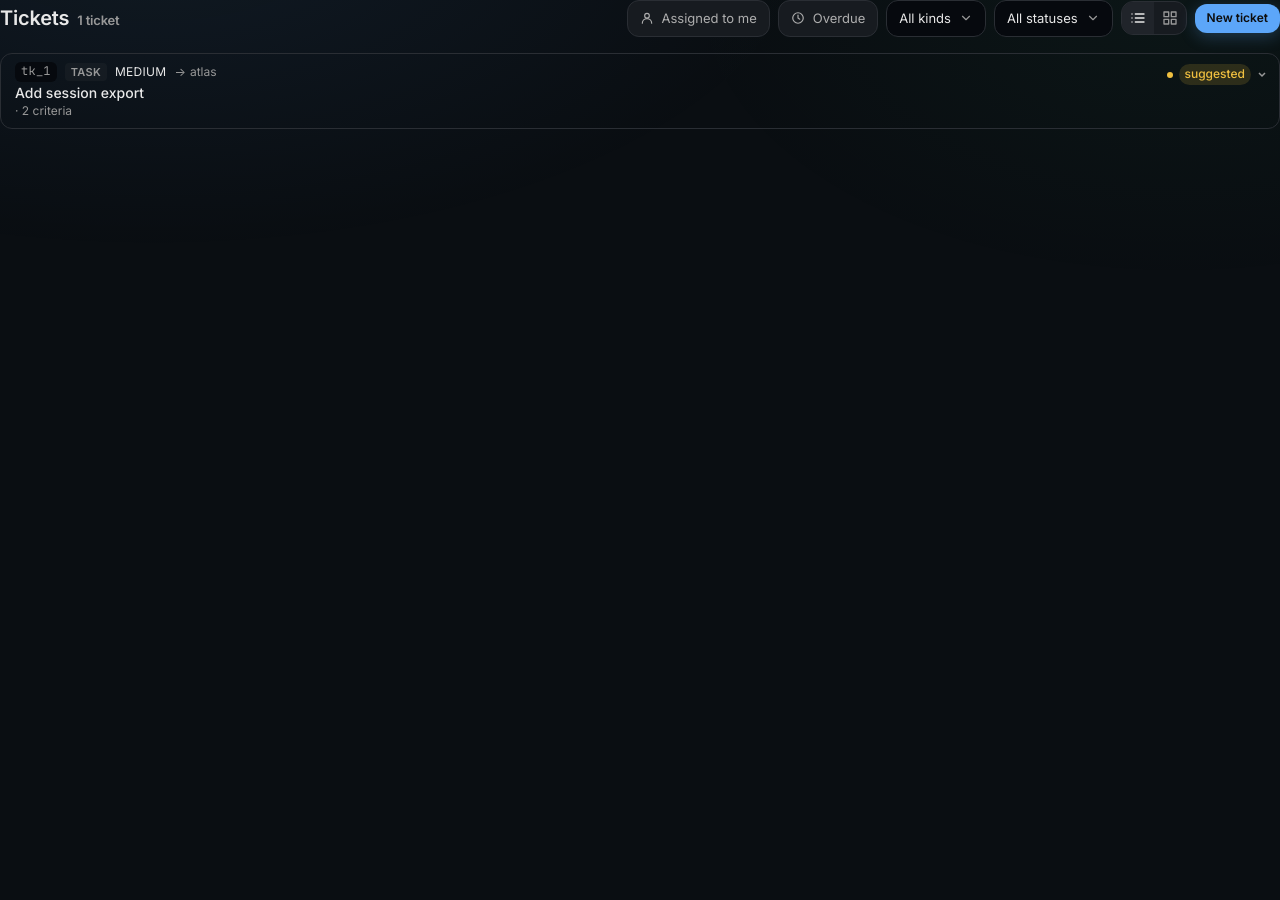
Scenario: TicketsTab › exposes a kind selector and conditional Parent Issue picker in the new ticket modal
Click the button "New ticket": [1237, 18] box top-left (1195, 4), bottom-right (1279, 33)
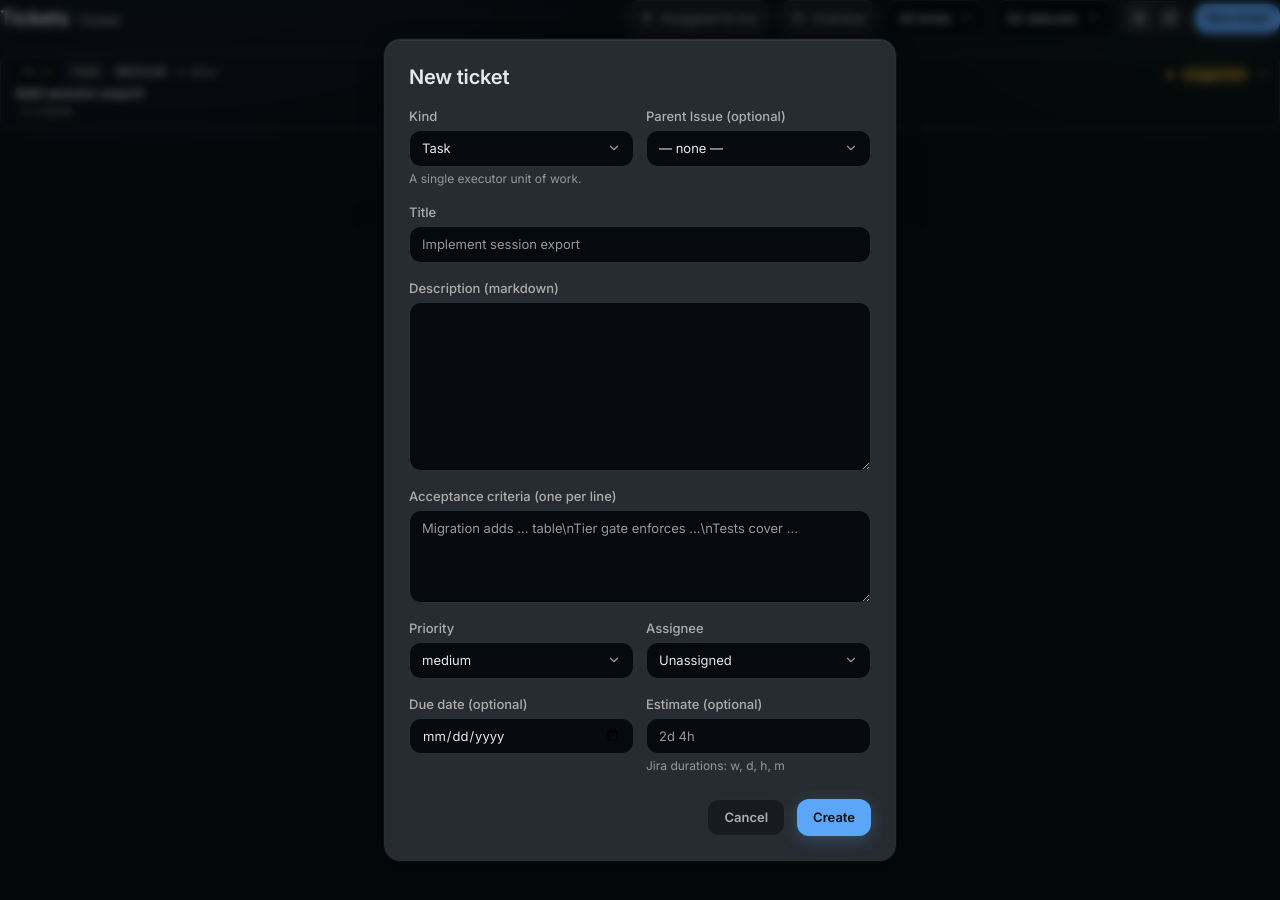
Expected: the button named "Kind" reads "Task"
Expected: the button named "Parent Issue" is shown, top-left (646, 130), bottom-right (871, 167)
// Switch to Issue
Click the button named "Kind": [522, 148] box top-left (409, 130), bottom-right (634, 167)
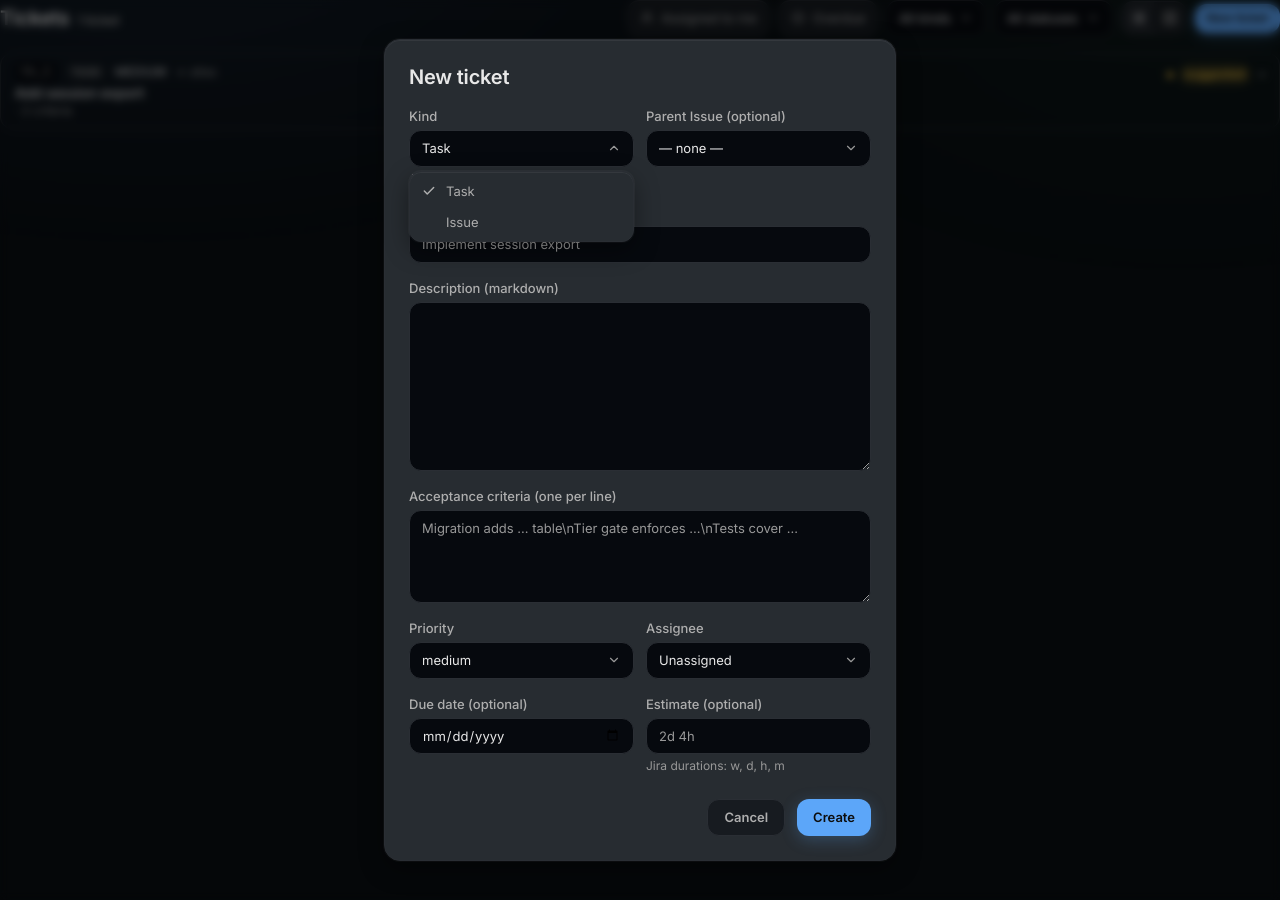
Click the option "Issue": [462, 222] box top-left (446, 214), bottom-right (478, 230)
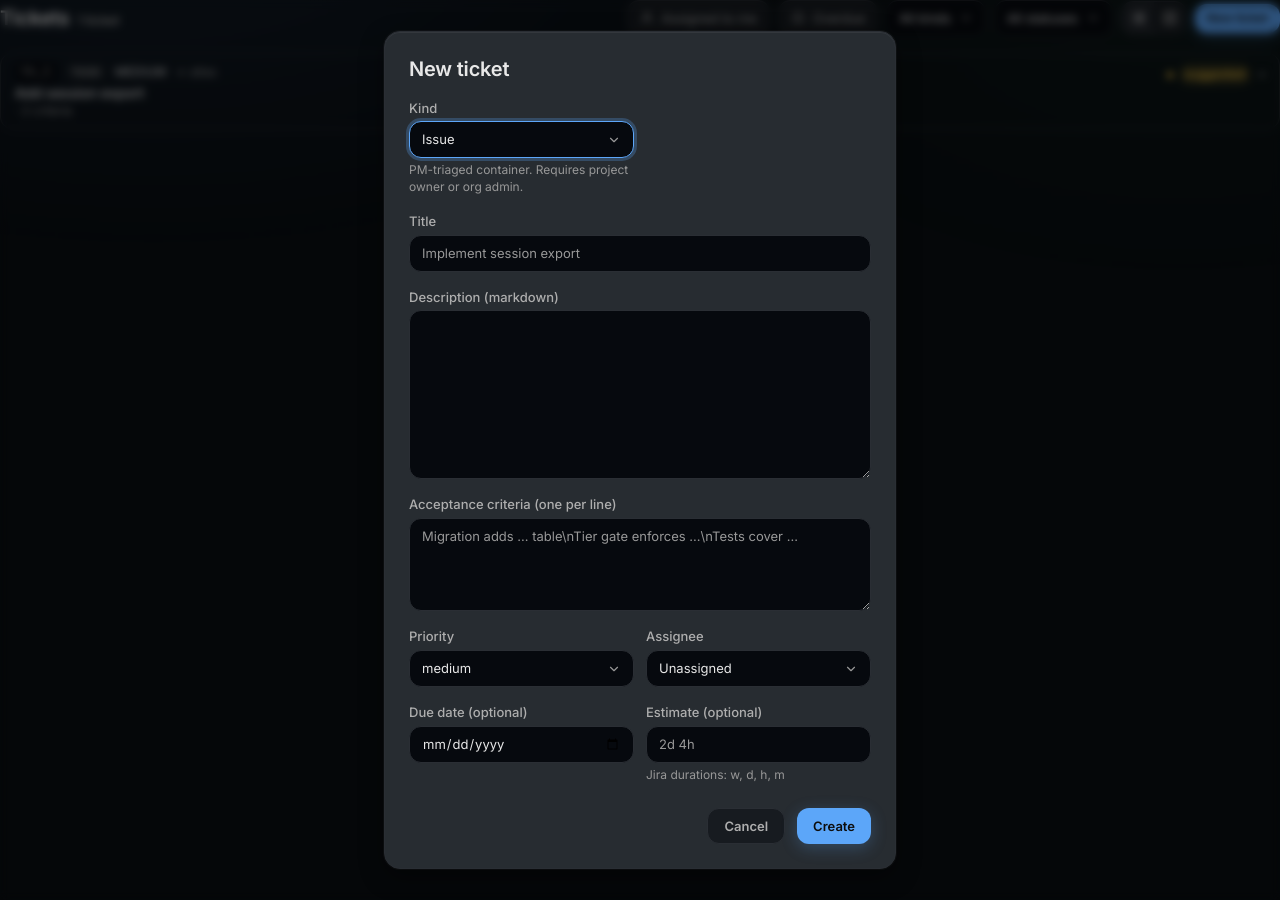
Expected: the label "Parent Issue" is gone
